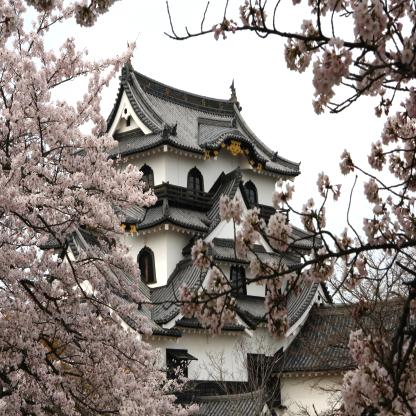Someiyoshino: (177, 0, 416, 413), (1, 1, 191, 415)
